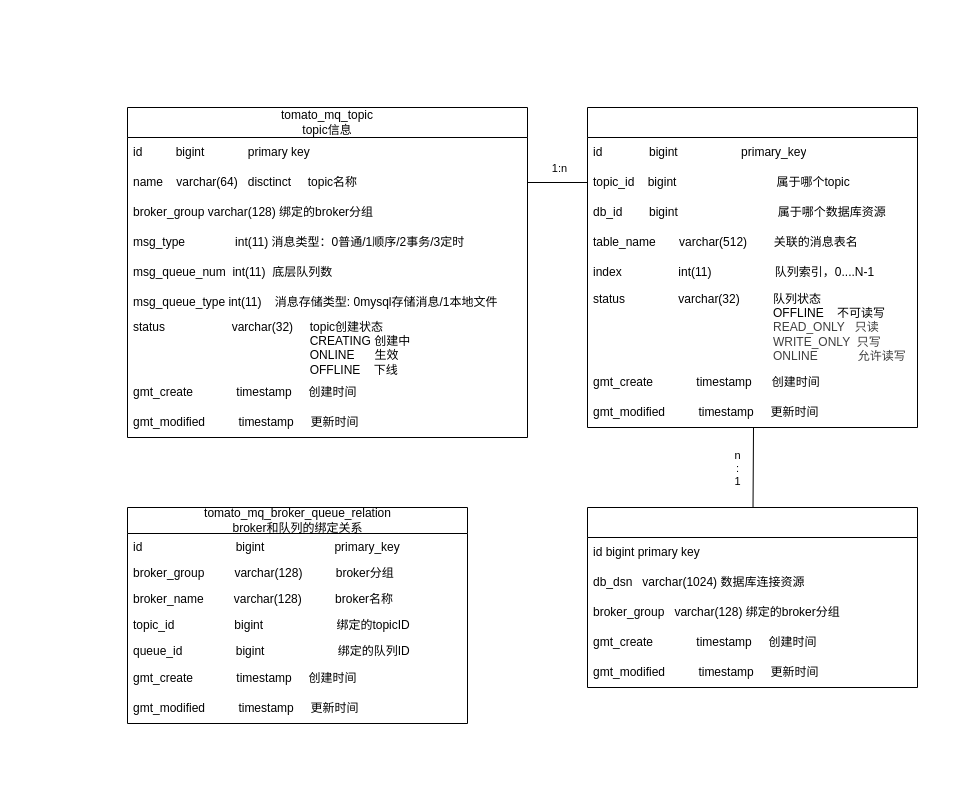
This 964x794 diagram has some shape labels left out. Here are the shapes that lost their labels. From the top down, the box of each, then its label:
(586, 106, 918, 428): tomato_mq_mysql_queue mysql队列原数据
(586, 506, 918, 688): tomato_mq_db 数据库资源信息
